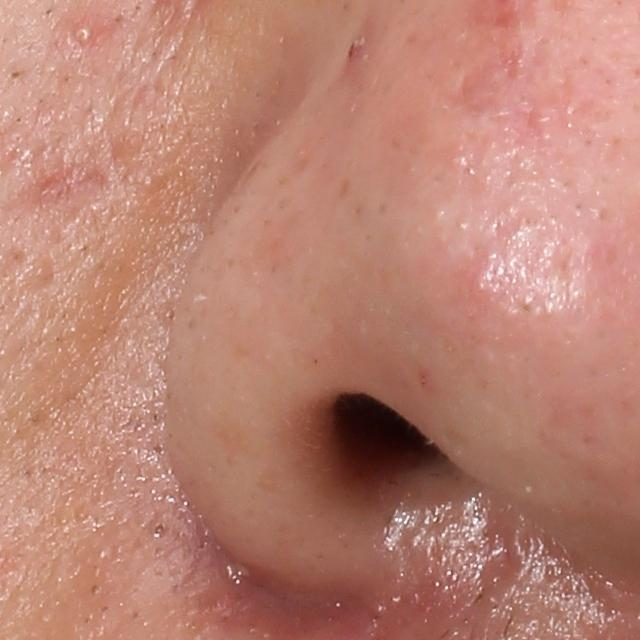atrophic_scar: (3, 156, 122, 227)
comedo: (149, 519, 167, 537), (7, 66, 23, 83)
pustule: (73, 22, 94, 43)
